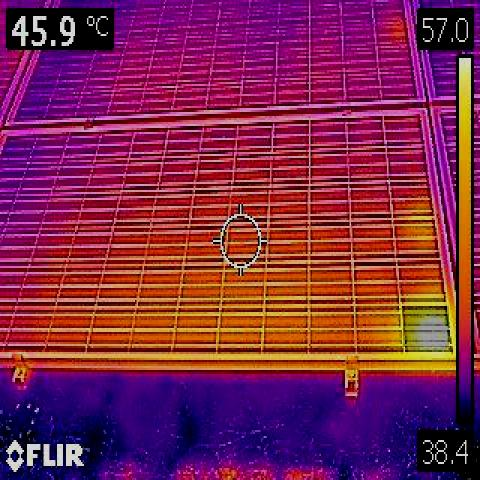fault: (403, 306, 449, 347)
